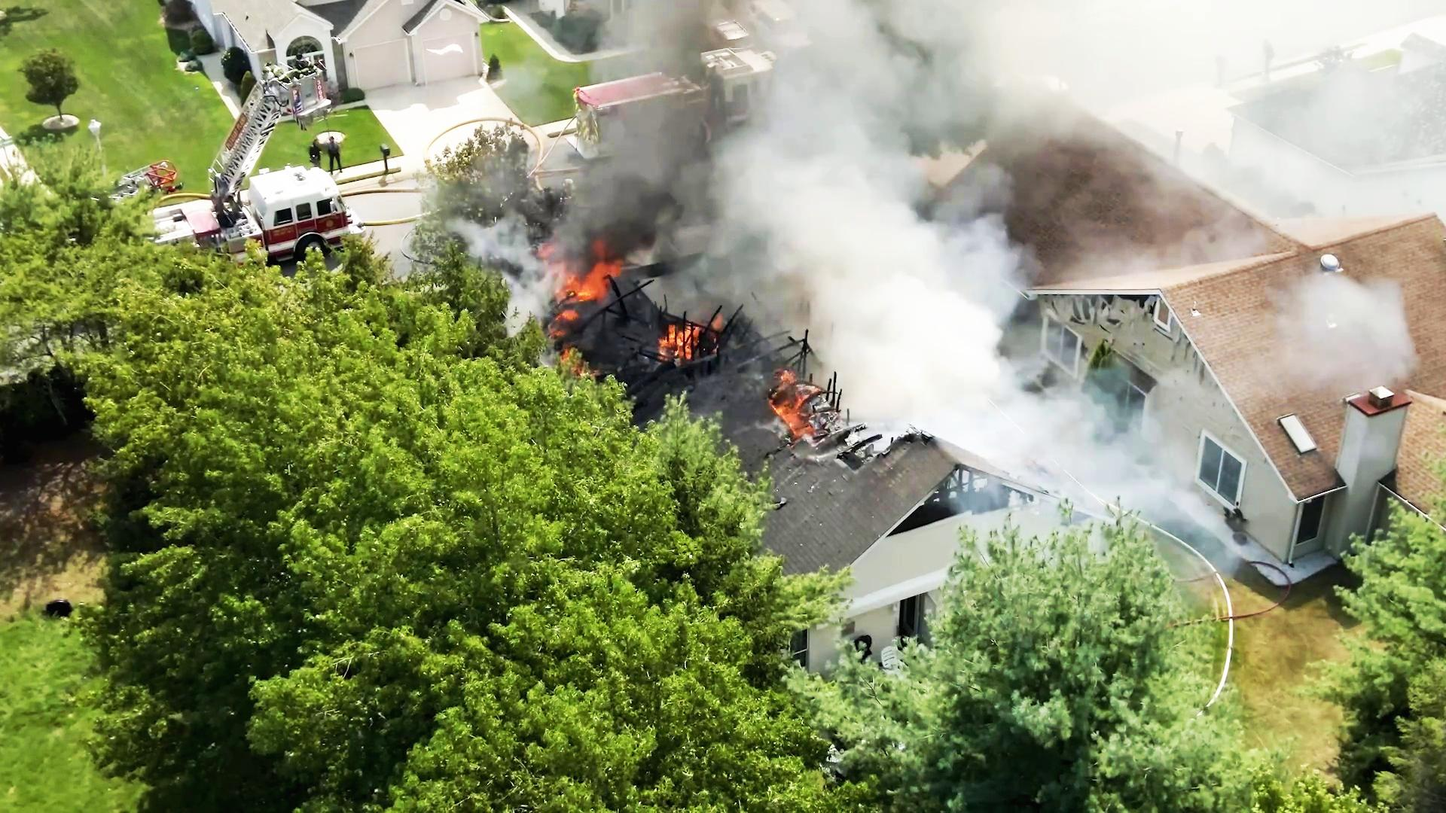fire: (551, 253, 629, 303)
smoke: (840, 183, 1000, 422), (772, 115, 951, 309)
